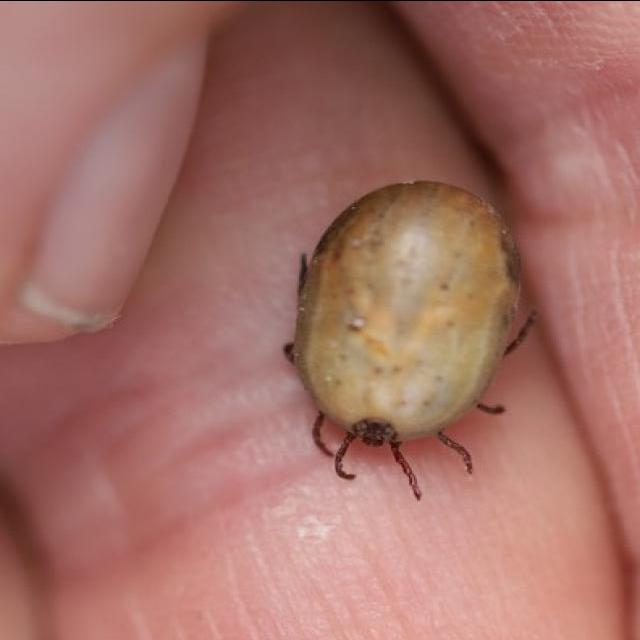Dermacentor Reticulatus-F-Fed: (283, 181, 537, 499)
